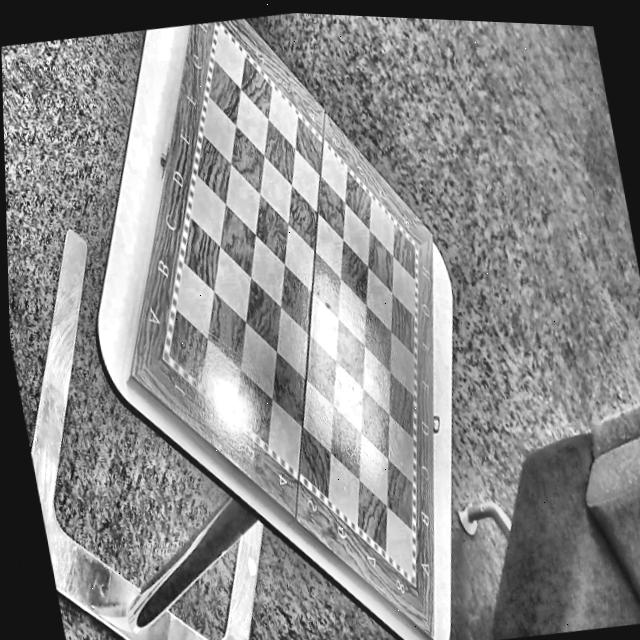chessboard: (169, 27, 415, 577)
